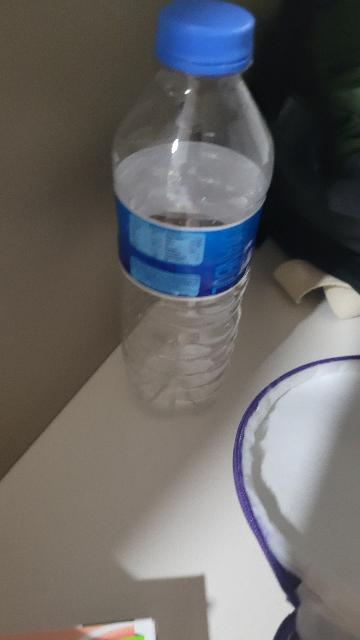Plastik: (106, 0, 275, 410)
